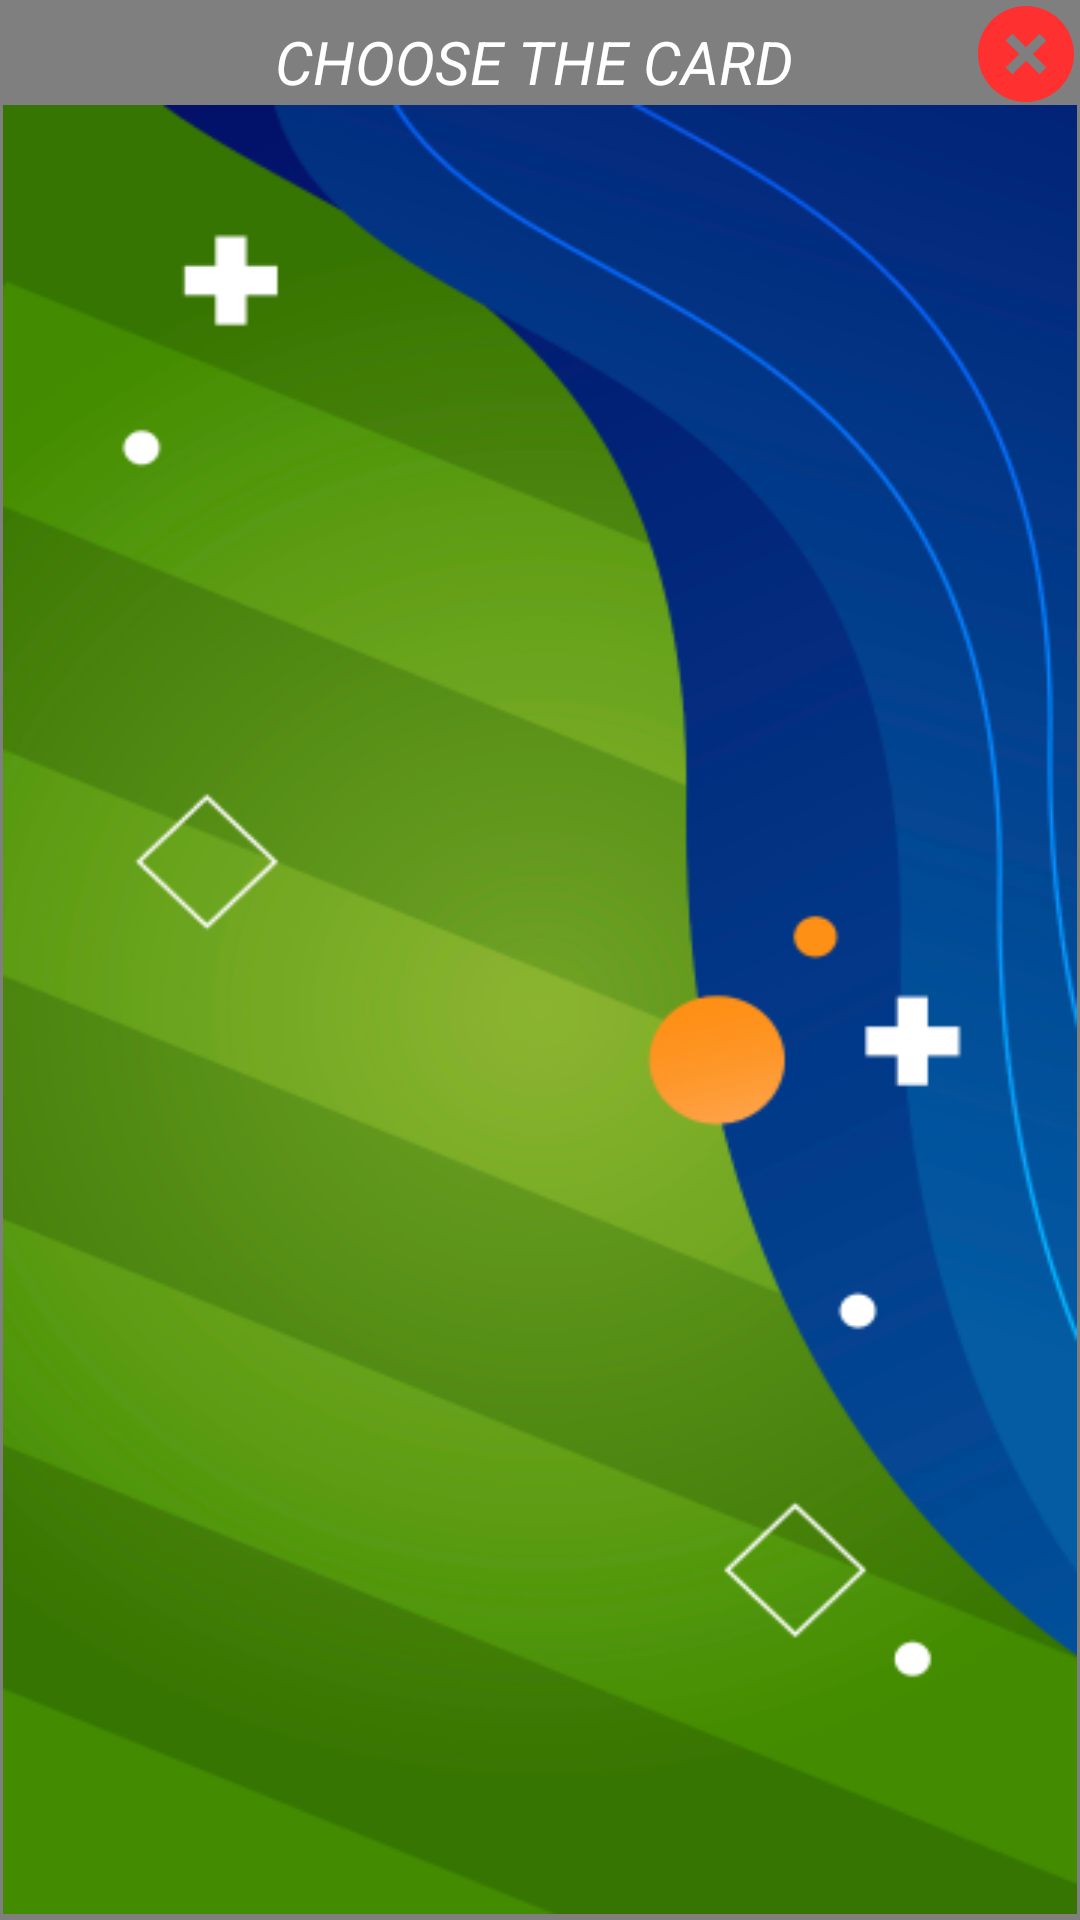

Icons on this 1080 x 1920 Android screen, each with the point to tap as (x=x, y=y):
close: (x=1026, y=54)
